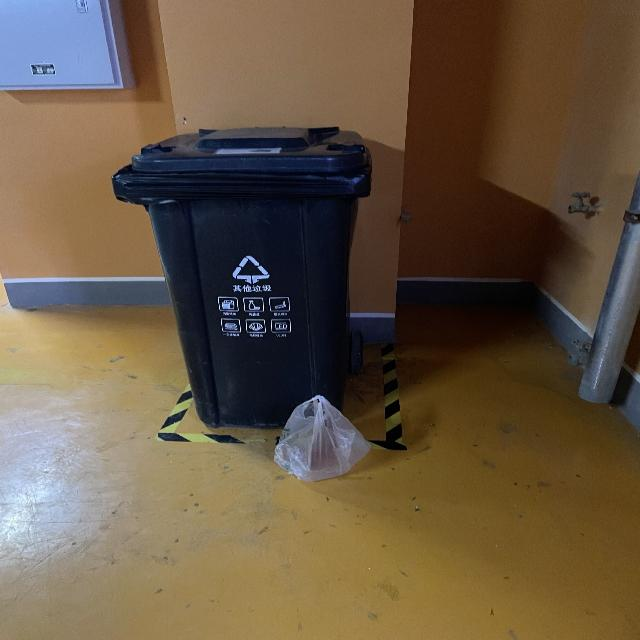garbage: (272, 394, 373, 482)
garbage_bin: (112, 126, 373, 428)
